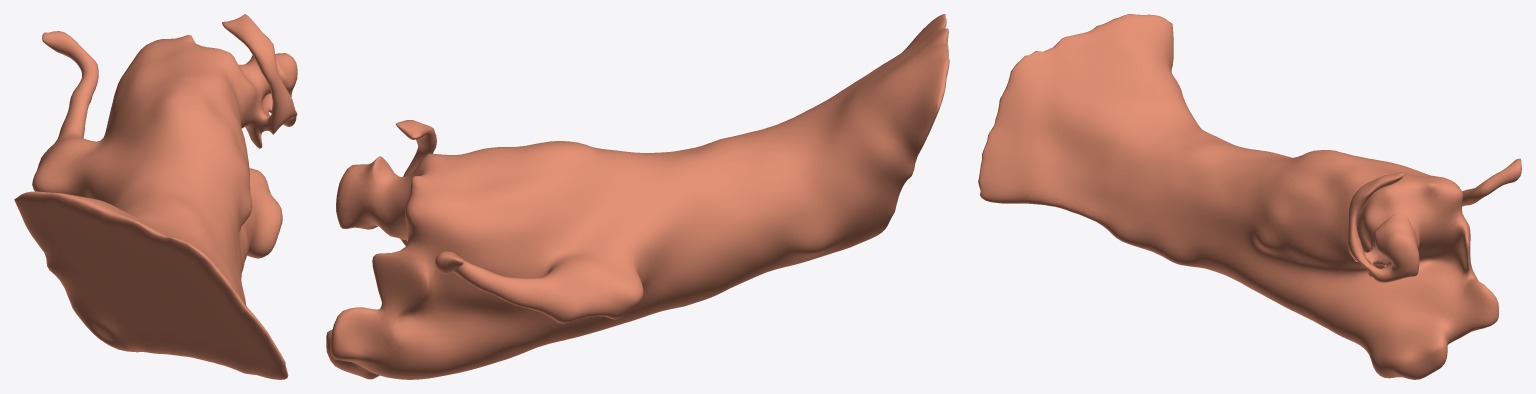
File: cochleovestibular-nerve.glb
The picture shows the model from 3 angles, left to right: view 1: azimuth 30°, elevation 25°; view 2: azimuth 150°, elevation 25°; view 3: azimuth 270°, elevation 25°; orthographic projection. The views are drawn at different scales.
Visible parts, largest first — view 1: 08_Cochleovestibular Nerve.ply; view 2: 08_Cochleovestibular Nerve.ply; view 3: 08_Cochleovestibular Nerve.ply.
Boxes of the visible parts, x1,y1,x2,y2 form: 08_Cochleovestibular Nerve.ply: [14, 14, 297, 379]; 08_Cochleovestibular Nerve.ply: [326, 14, 949, 379]; 08_Cochleovestibular Nerve.ply: [978, 14, 1521, 379].
Size of the model in its own units: 13.08 by 7.91 by 17.76.
